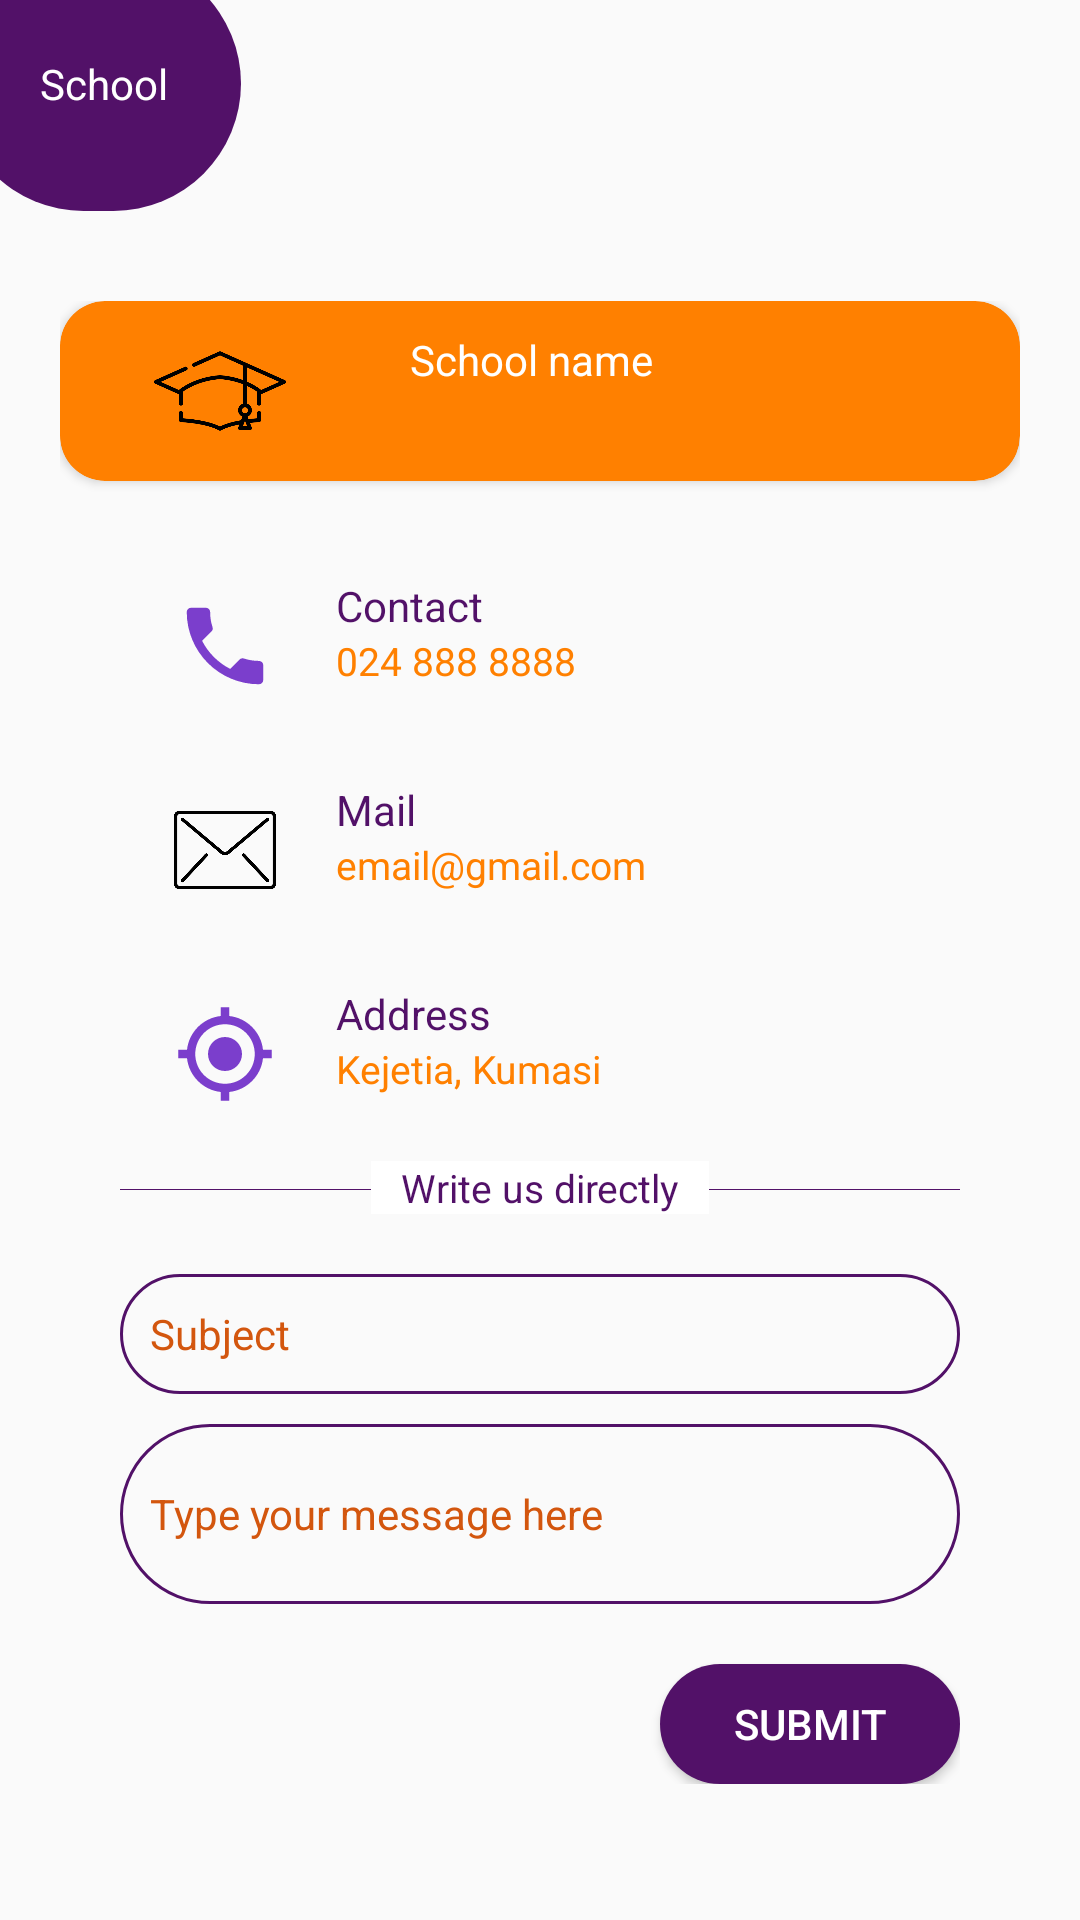

Named icons in this screenshot (1080*1920) and their bounding boxes, (x1, y1, x2, y2):
location: (178, 1007, 272, 1101)
phone: (186, 607, 264, 685)
